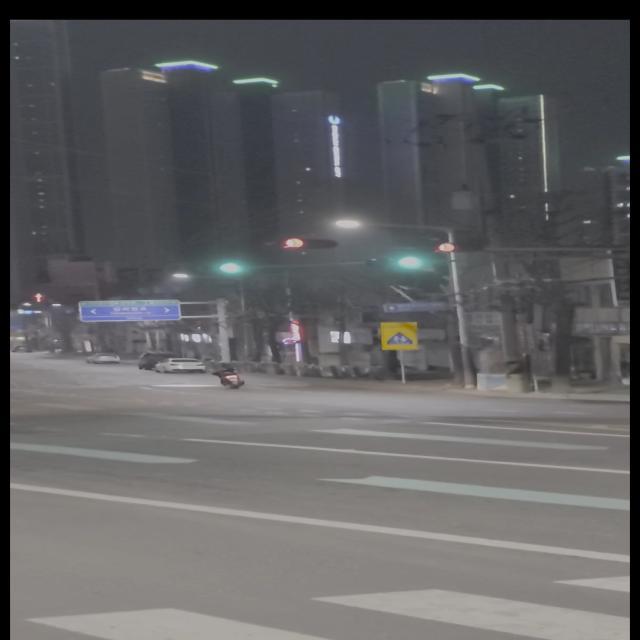Green Light: (396, 256, 429, 270), (220, 262, 244, 273)
Red Light: (278, 237, 306, 250), (434, 243, 458, 253)
